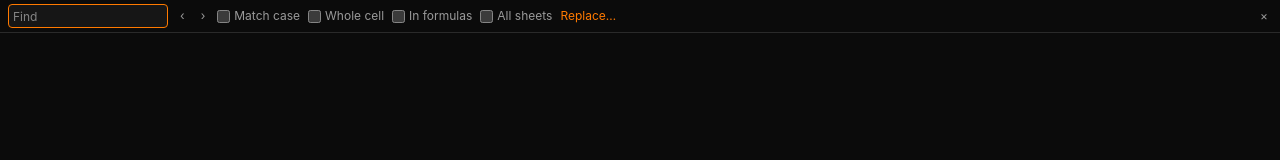
Test case: the find strip › keeps replace out of the way until it is wanted
This screenshot has width=1280, height=160.
Check: the field labelled "Replace with" is not shown
Click the button "Replace…" at (588, 16), box [560,8,616,24]
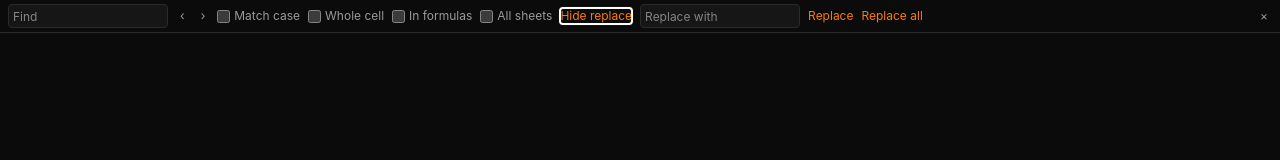
Check: the field labelled "Replace with" is shown, box [640,4,800,28]
